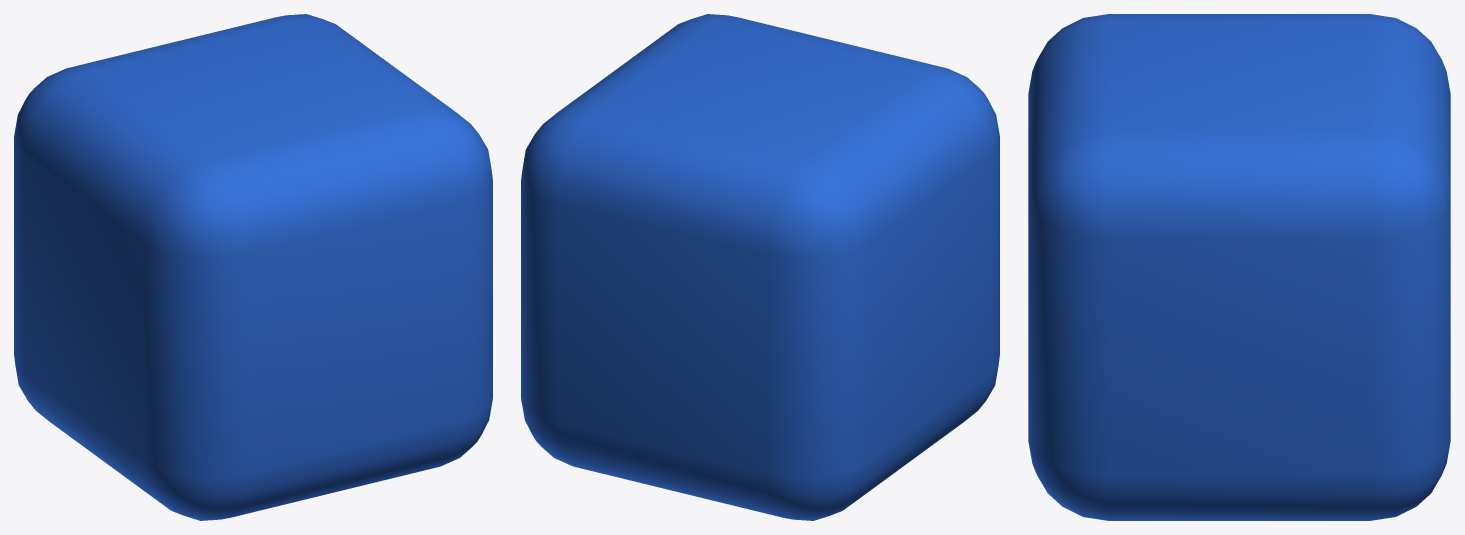
The model's file is rounded_cube.glb.
3 renders of one model, left to right at view 1: azimuth 30°, elevation 25°; view 2: azimuth 150°, elevation 25°; view 3: azimuth 270°, elevation 25°, orthographic. The views are drawn at different scales.
Parts seen in each view (by area): view 1: Cube_0; view 2: Cube_0; view 3: Cube_0.
Boxes of the visible parts, x1,y1,x2,y2 form: Cube_0: [14, 14, 492, 520]; Cube_0: [521, 14, 999, 520]; Cube_0: [1028, 14, 1450, 520].
Bounding box in the file's own units: 2 × 2 × 2.
